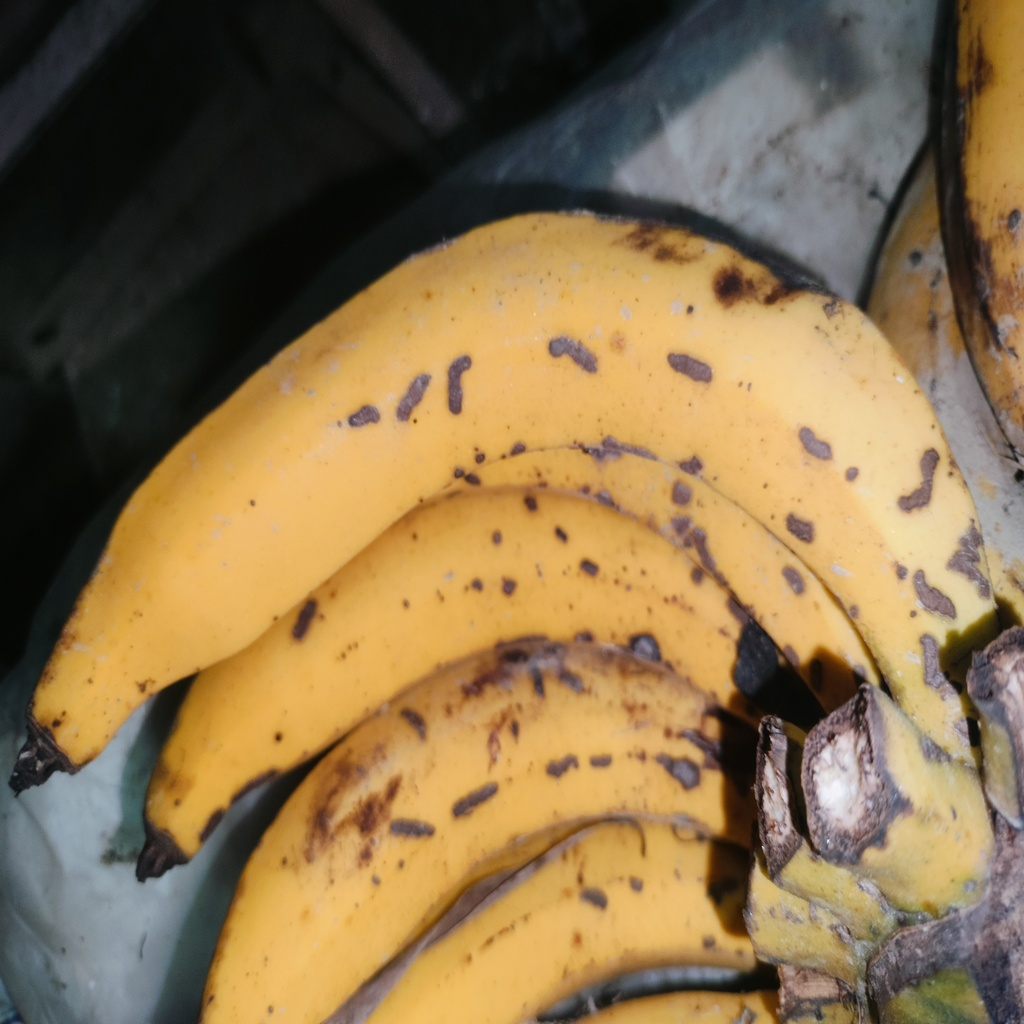unhealthy: (27, 200, 1002, 905)
